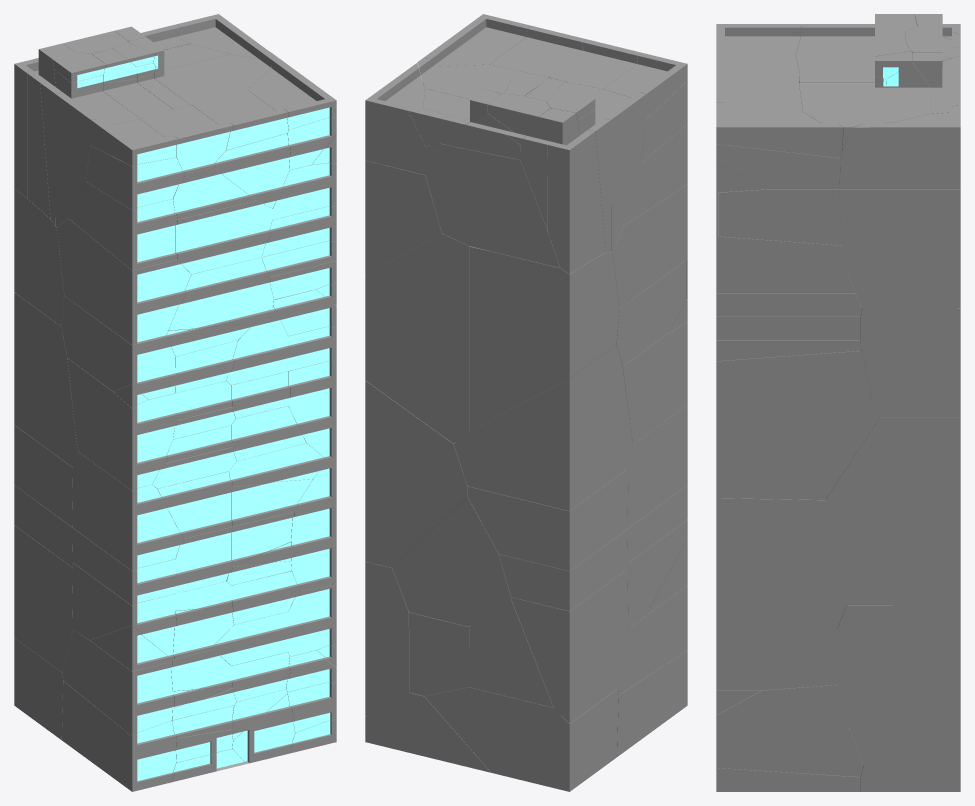
The model's file is habitation_1_destruct.fbx.
The picture shows the model from 3 angles, left to right: view 1: azimuth 30°, elevation 25°; view 2: azimuth 150°, elevation 25°; view 3: azimuth 270°, elevation 25°; orthographic projection. The views are drawn at different scales.
Visible parts, largest first — view 1: Cube_cell.099, Cube_cell.049, Cube_cell.011, Cube_cell.027, Cube_cell.032, Cube_cell.019, Cube_cell.083, Cube_cell.030, Cube_cell.071, Cube_cell.076, Cube_cell.055, Cube_cell.040 (+71 smaller); view 2: Cube_cell.046, Cube_cell.027, Cube_cell.098, Cube_cell.061, Cube_cell.080, Cube_cell.089, Cube_cell.083, Cube_cell.086, Cube_cell.022, Cube_cell.009, Cube_cell.010, Cube_cell.099 (+29 smaller); view 3: Cube_cell.061, Cube_cell.010, Cube_cell.087, Cube_cell.093, Cube_cell.009, Cube_cell.098, Cube_cell.067, Cube_cell.006, Cube_cell.029, Cube_cell.045, Cube_cell.039, Cube_cell.005 (+25 smaller).
Part boxes in pixels (left/top/right/bottom): Cube_cell.099: left=57, top=219, right=191, bottom=345; Cube_cell.049: left=67, top=358, right=177, bottom=490; Cube_cell.011: left=72, top=451, right=183, bottom=570; Cube_cell.027: left=14, top=292, right=77, bottom=467; Cube_cell.032: left=62, top=681, right=176, bottom=791; Cube_cell.019: left=62, top=630, right=174, bottom=736; Cube_cell.083: left=14, top=525, right=73, bottom=672; Cube_cell.030: left=68, top=181, right=177, bottom=270; Cube_cell.071: left=61, top=296, right=175, bottom=399; Cube_cell.076: left=168, top=257, right=273, bottom=330; Cube_cell.055: left=175, top=200, right=272, bottom=274; Cube_cell.040: left=55, top=82, right=140, bottom=227; Cube_cell.046: left=469, top=246, right=619, bottom=430; Cube_cell.027: left=453, top=344, right=632, bottom=510; Cube_cell.098: left=365, top=233, right=469, bottom=443; Cube_cell.061: left=365, top=380, right=467, bottom=567; Cube_cell.080: left=424, top=687, right=618, bottom=791; Cube_cell.089: left=425, top=143, right=560, bottom=267; Cube_cell.083: left=511, top=569, right=628, bottom=723; Cube_cell.086: left=392, top=497, right=511, bottom=626; Cube_cell.022: left=467, top=468, right=628, bottom=571; Cube_cell.009: left=365, top=160, right=441, bottom=274; Cube_cell.010: left=365, top=561, right=409, bottom=716; Cube_cell.099: left=612, top=184, right=687, bottom=308; Cube_cell.061: left=825, top=417, right=960, bottom=604; Cube_cell.010: left=837, top=605, right=960, bottom=765; Cube_cell.087: left=716, top=498, right=846, bottom=628; Cube_cell.093: left=716, top=397, right=879, bottom=499; Cube_cell.009: left=839, top=189, right=960, bottom=308; Cube_cell.098: left=860, top=308, right=960, bottom=416; Cube_cell.067: left=839, top=105, right=960, bottom=189; Cube_cell.006: left=716, top=628, right=838, bottom=690; Cube_cell.029: left=716, top=351, right=871, bottom=397; Cube_cell.045: left=718, top=186, right=841, bottom=245; Cube_cell.039: left=716, top=728, right=863, bottom=776; Cube_cell.005: left=716, top=683, right=848, bottom=729.
Bounding box in the file's own units: 200 × 616 × 200.
